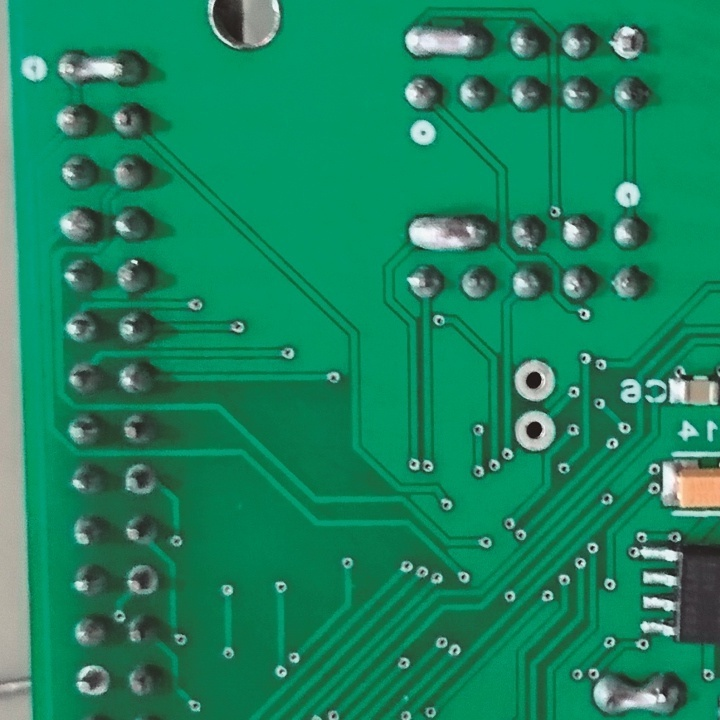F: (512, 358, 557, 401), (513, 413, 558, 455), (610, 22, 647, 65), (76, 662, 114, 700), (122, 461, 159, 497), (123, 563, 158, 599)
P: (590, 671, 689, 720), (405, 213, 499, 256), (54, 49, 147, 89), (404, 21, 493, 62)
